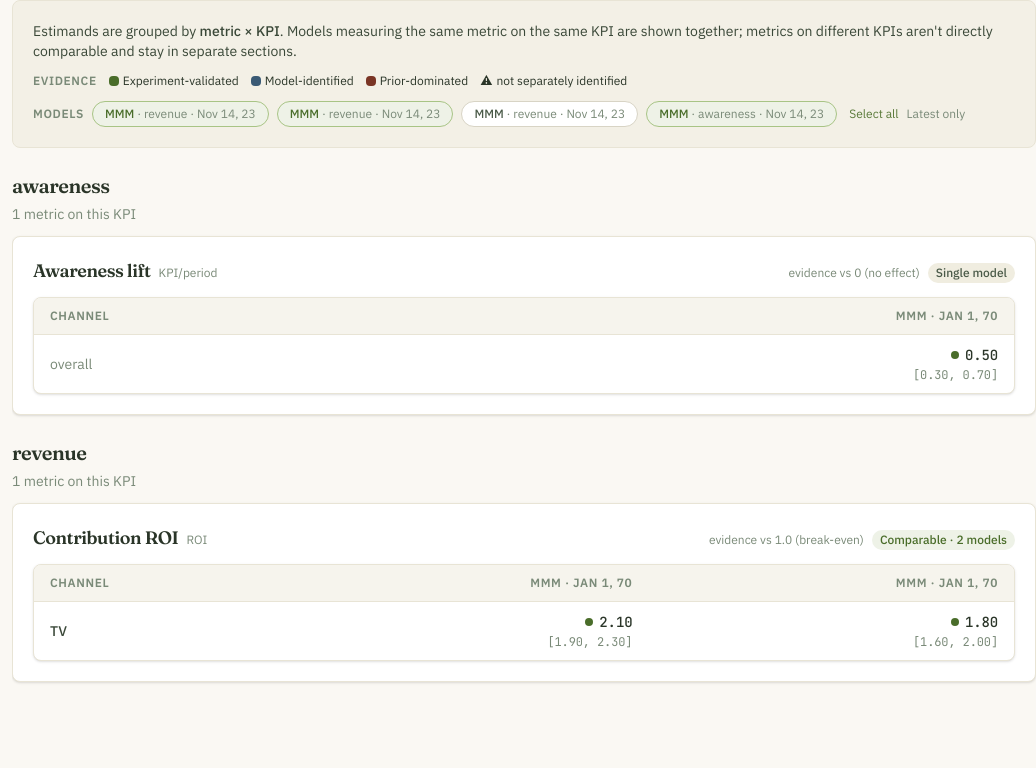
EstimandsPanel › reveals older runs when "Select all" is clicked
The width and height of the screenshot is (1036, 768).
Step 1. Click the button "Select all" → (874, 114), box [849,106,899,122]
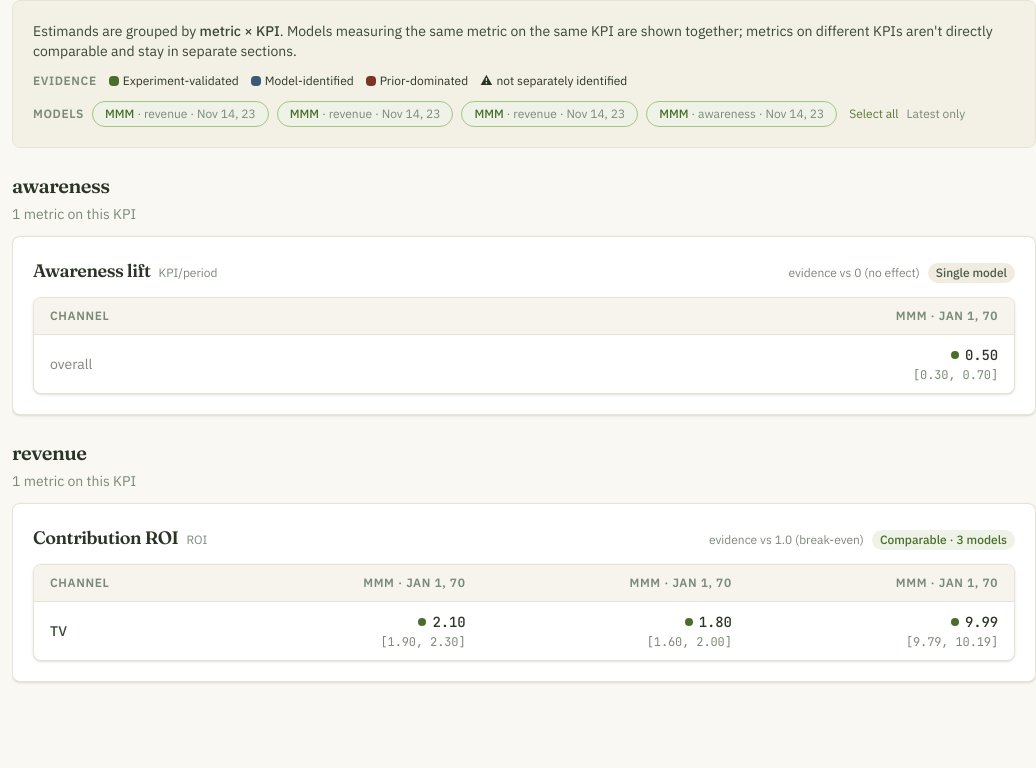
Now the text "9.99" is shown, box [965,612,998,632]
Now the text "Comparable · 3 models" is shown, box [872,530,1015,550]
